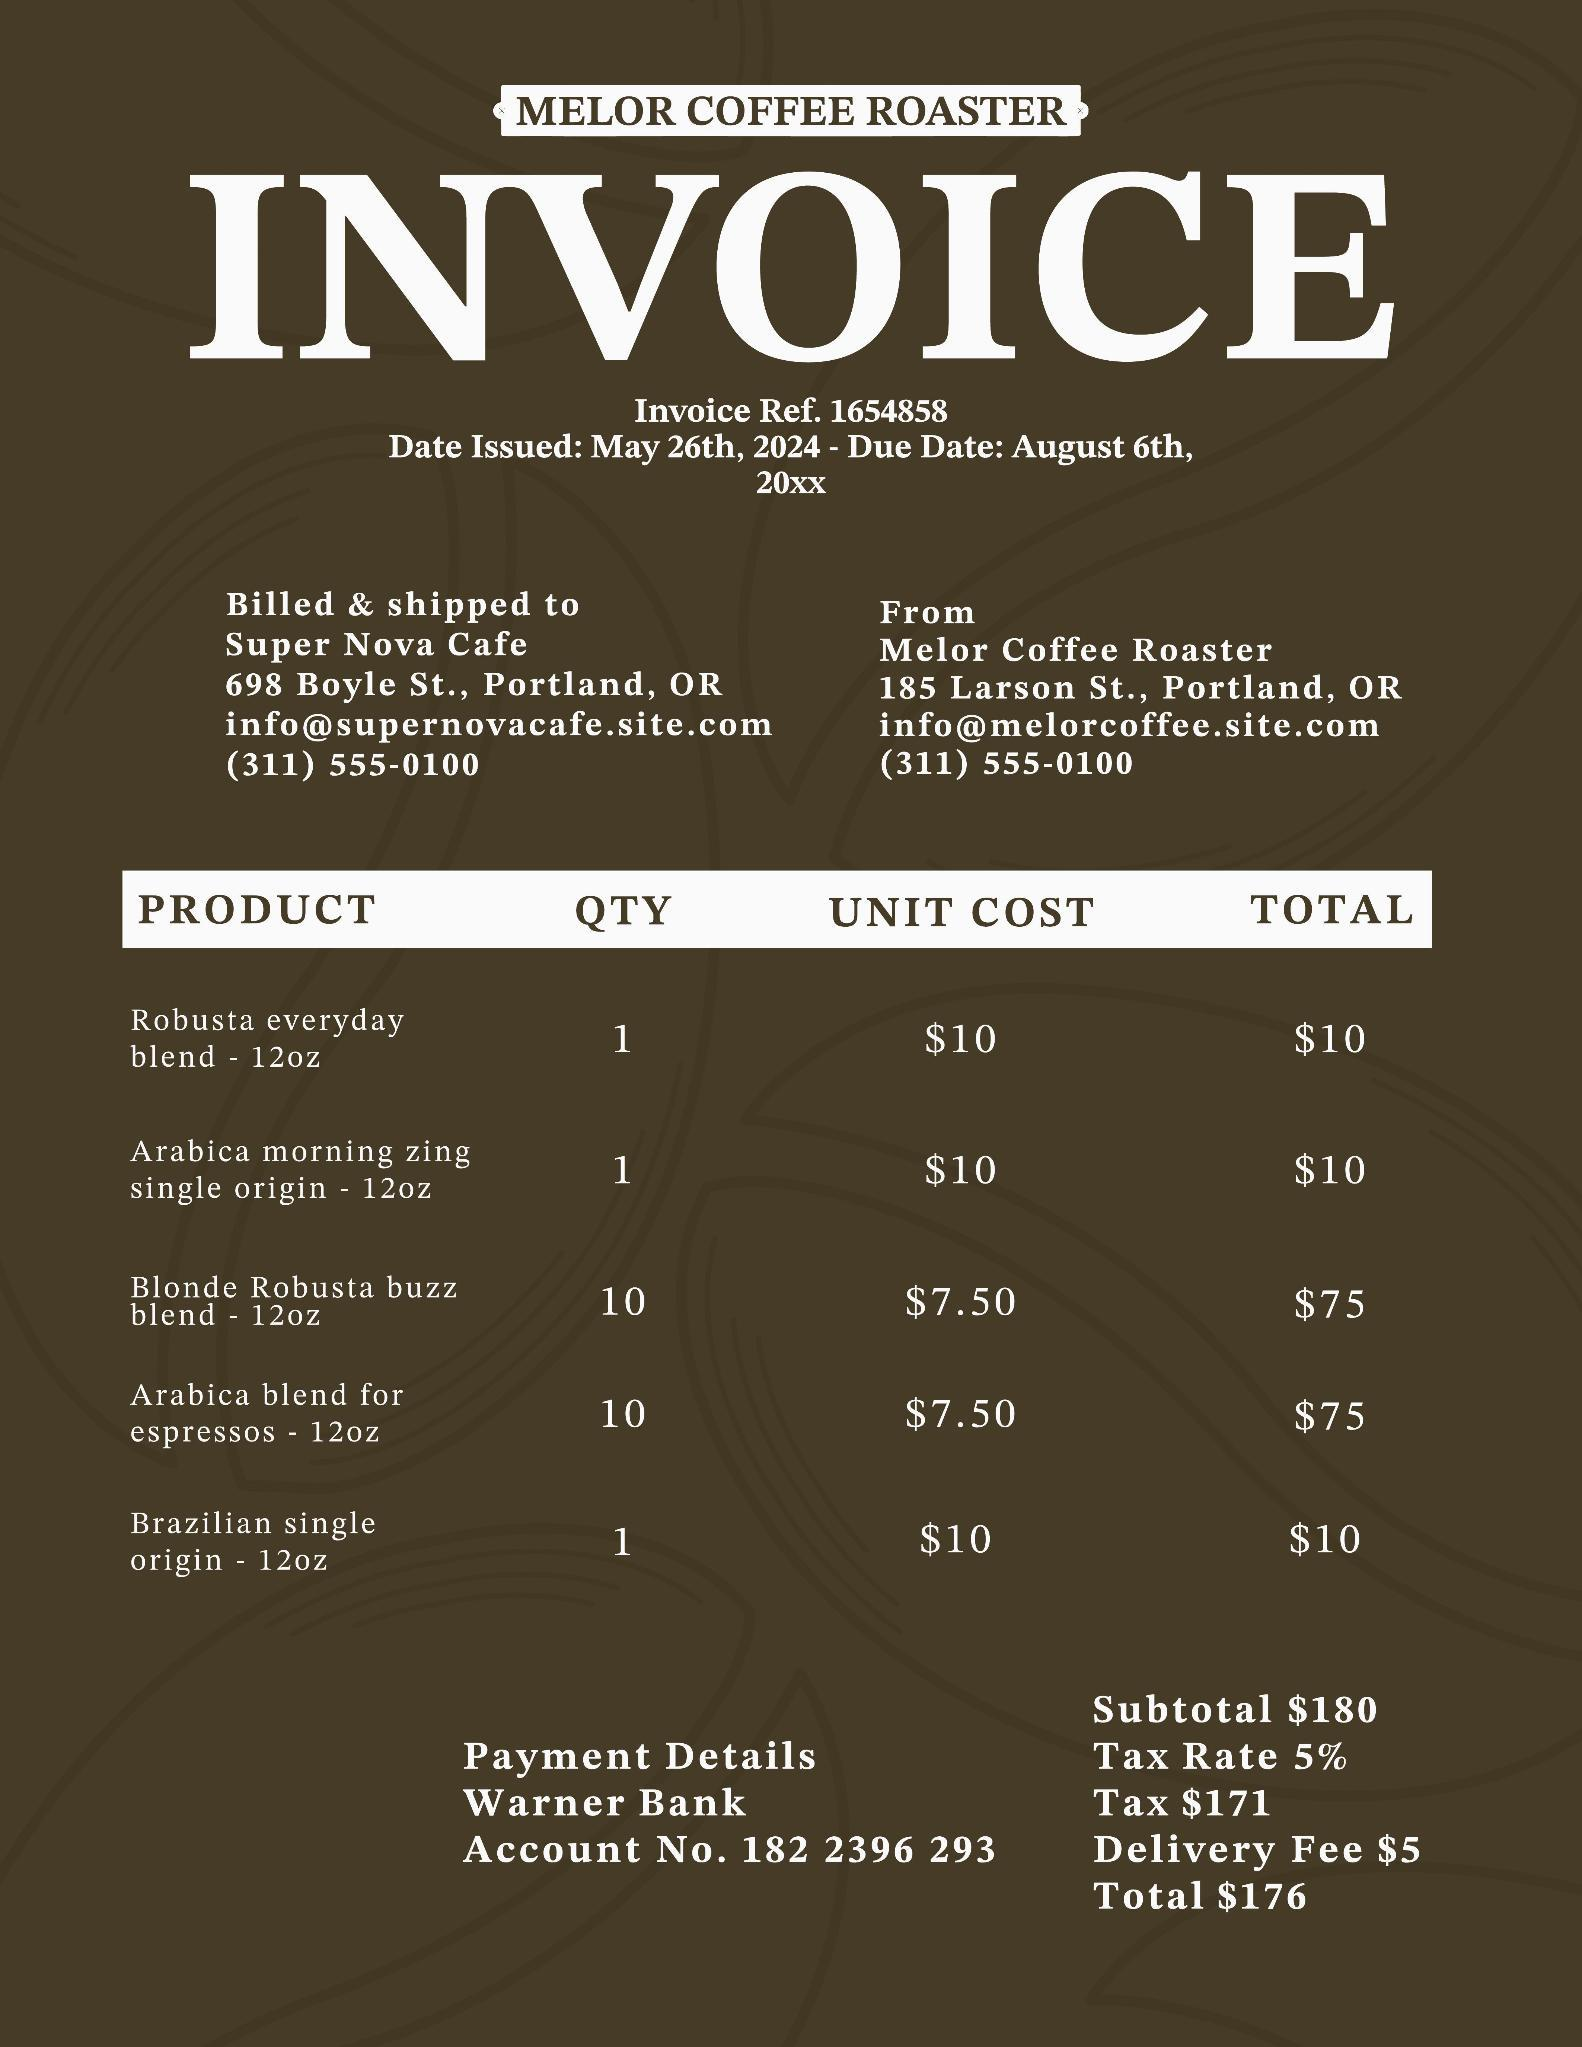ROI: (125, 871, 1424, 1587), (173, 156, 1429, 379), (204, 575, 784, 799), (856, 595, 1421, 796), (321, 390, 1223, 507), (439, 1730, 1019, 1896), (1087, 1681, 1447, 1931), (510, 78, 1072, 146)
